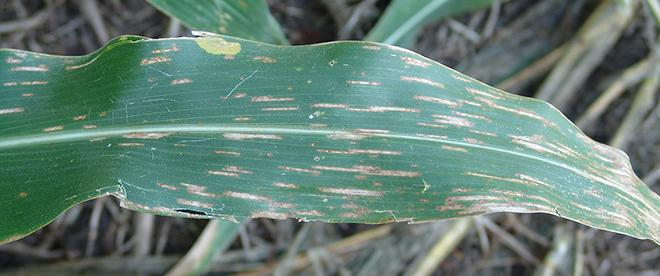Corn Gray leaf spot: (1, 35, 660, 269)
